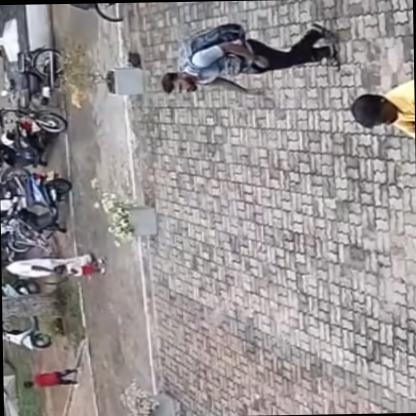Human Body: (161, 20, 342, 98), (1, 250, 89, 280), (20, 364, 84, 392), (58, 254, 110, 275)
